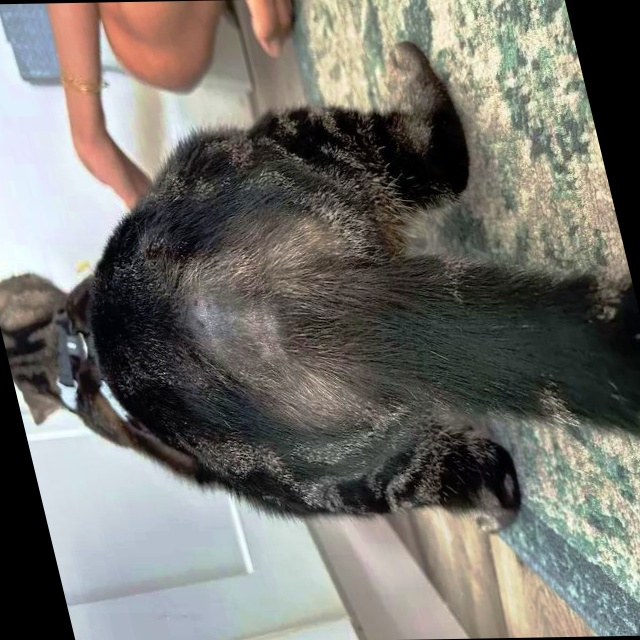hairloss: (167, 269, 301, 365)
